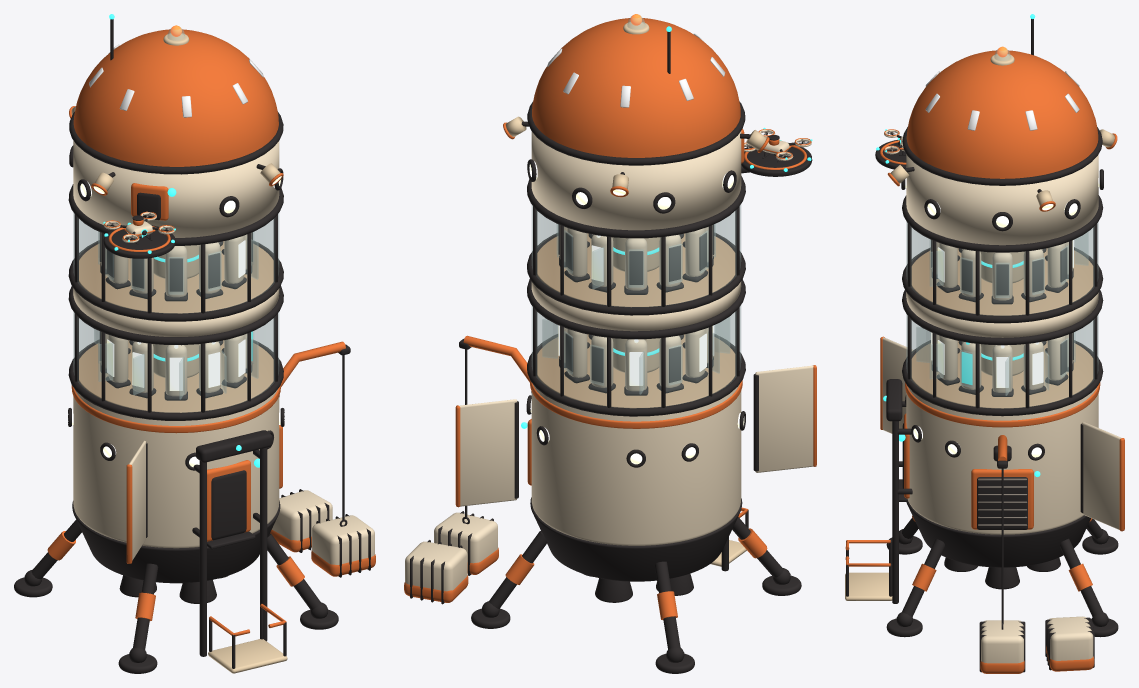
The model's file is ark-a.glb.
3 renders of one model, left to right at view 1: azimuth 30°, elevation 25°; view 2: azimuth 150°, elevation 25°; view 3: azimuth 270°, elevation 25°, orthographic. The views are drawn at different scales.
Visible parts, largest first — view 1: Cone; view 2: Cone; view 3: Cone.
Boxes of the visible parts, x1,y1,x2,y2 form: Cone: (14,14,375,673); Cone: (404,14,816,673); Cone: (845,14,1124,673).
Bounding box in the file's own units: 2.76 × 5.08 × 2.33.
